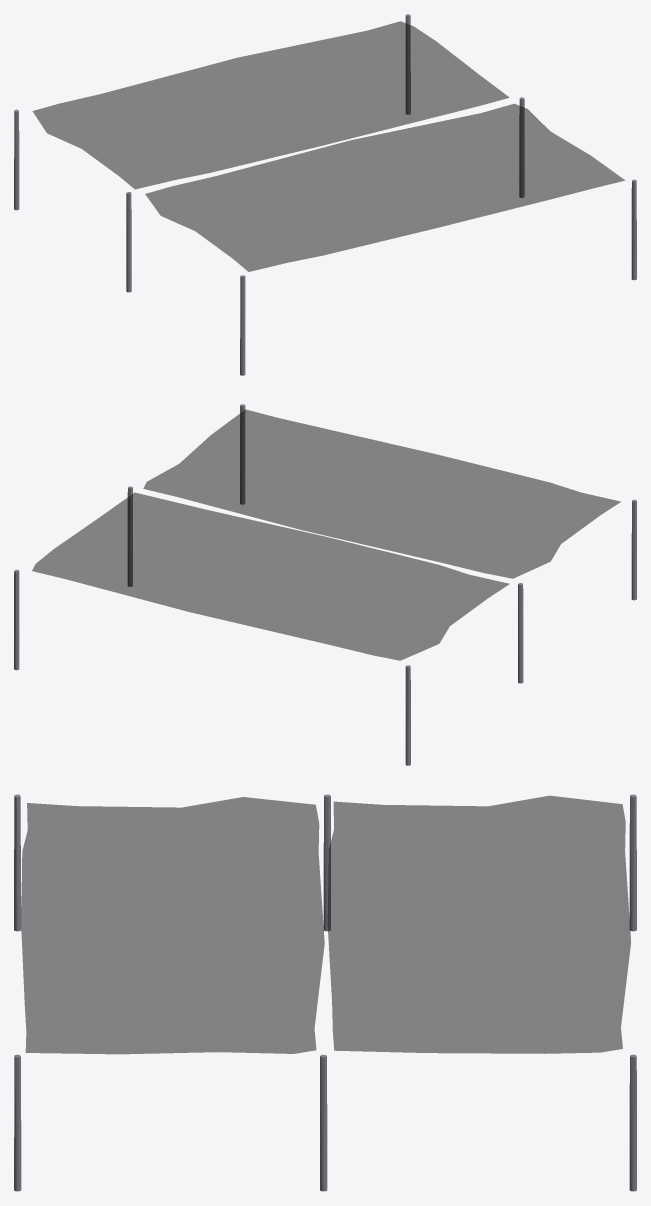
Rendered from TelemReshetTzel_LOD2.gltf.
The picture shows the model from 3 angles, top to bottom: view 1: azimuth 30°, elevation 25°; view 2: azimuth 150°, elevation 25°; view 3: azimuth 270°, elevation 25°; orthographic projection. The views are drawn at different scales.
Visible parts, largest first — view 1: node6, node5; view 2: node6, node5; view 3: node6, node5.
Part boxes in pixels (x1=…): node6: x1=32, y1=21, x2=624, y2=271; node5: x1=14, y1=14, x2=636, y2=375; node6: x1=32, y1=409, x2=620, y2=660; node5: x1=14, y1=404, x2=636, y2=765; node6: x1=21, y1=795, x2=630, y2=1054; node5: x1=14, y1=794, x2=636, y2=1191.
Bounding box in the file's own units: 25.3 × 6 × 25.3.
